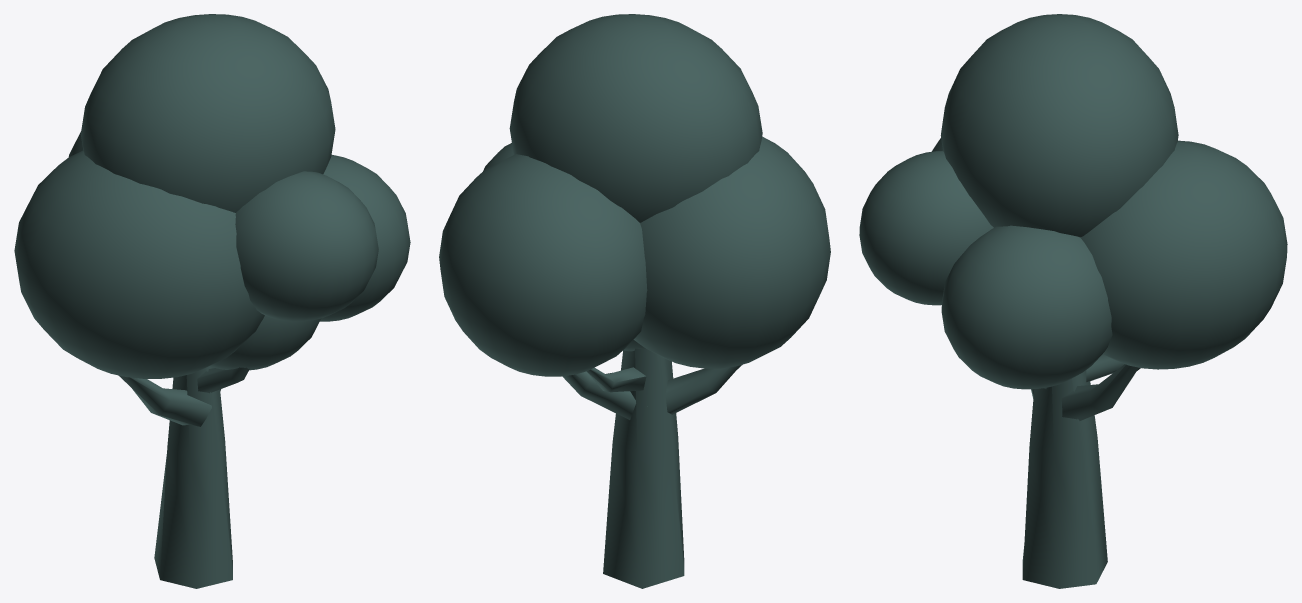
Rendered from tree.dae.
3 renders of one model, left to right at view 1: azimuth 30°, elevation 25°; view 2: azimuth 150°, elevation 25°; view 3: azimuth 270°, elevation 25°, orthographic.
Visible parts, largest first — view 1: Cylinder; view 2: Cylinder; view 3: Cylinder.
Boxes of the visible parts, x1,y1,x2,y2 form: Cylinder: (14,14,410,588); Cylinder: (439,14,830,588); Cylinder: (859,14,1287,588).
Bounding box in the file's own units: 82.32 × 122 × 86.13.
